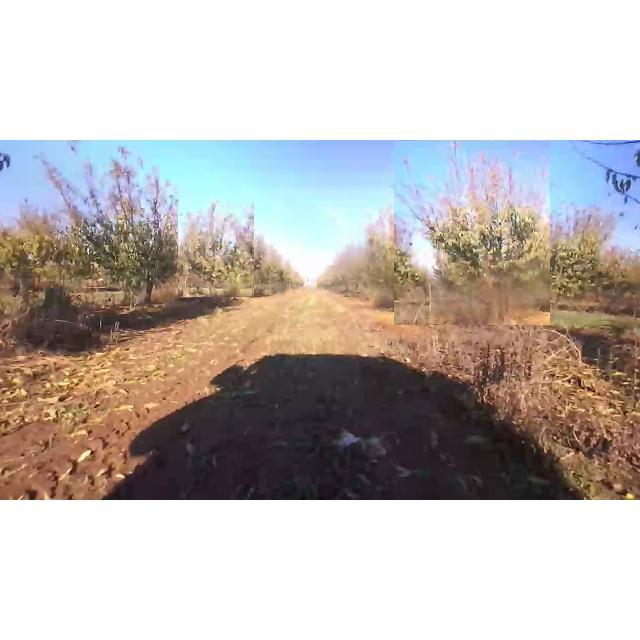direk: (8, 142, 196, 316), (394, 141, 550, 325), (526, 228, 614, 310), (178, 203, 254, 297)
